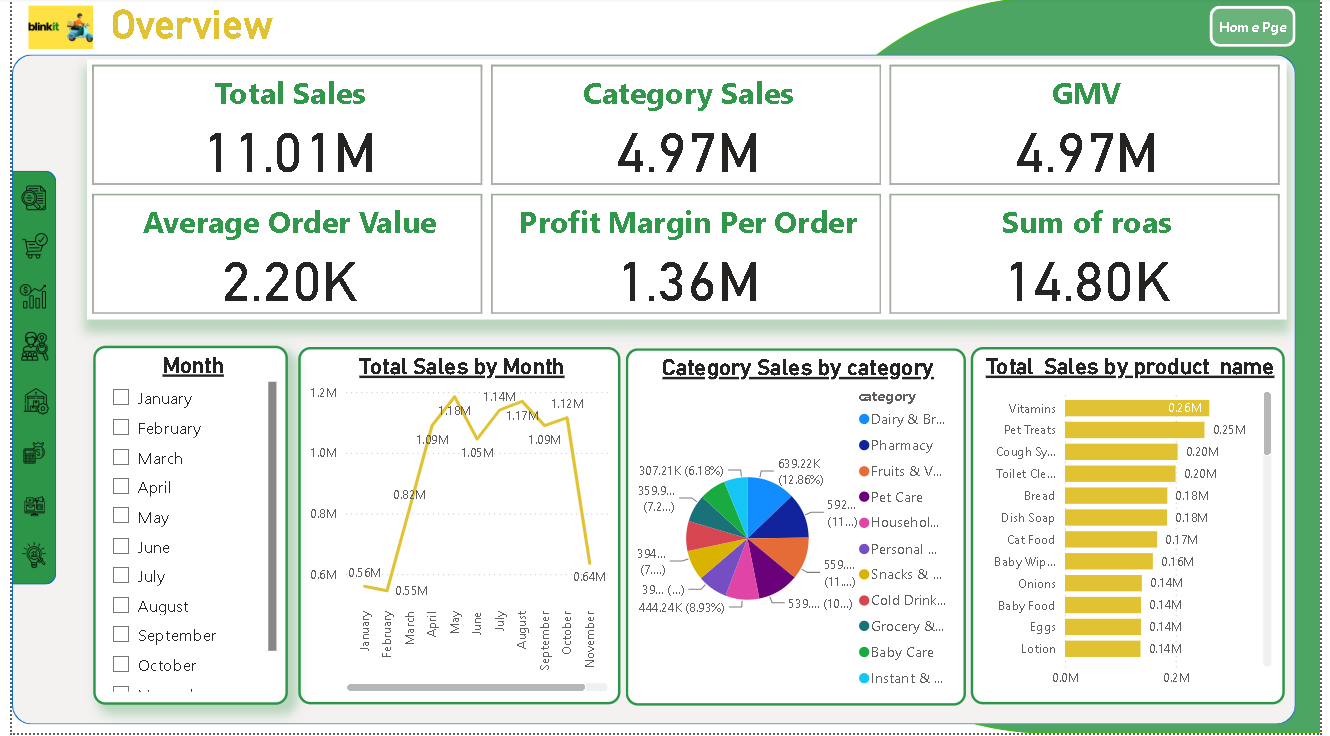

The page's visual inventory and layout, read from the dashboard file:
{"tool":"powerbi","page":{"name":"Overview","canvas":[1280,720],"ordinal":1},"visuals":[{"type":"shape","box":[740.7,0,539.3,720.2],"z":0},{"type":"shape","box":[0,56.3,1255.8,655.4],"z":1000},{"type":"cardVisual","fields":{"Data":["blinkit_customer_feedback.Total Sales","blinkit_customer_feedback.Category Sales","blinkit_customer_feedback.GMV","blinkit_customer_feedback.Average Order Value","blinkit_customer_feedback.Profit Margin Per Order","Sum(blinkit_marketing_performance.roas)"]},"box":[73.4,61.1,1173.9,254.3],"z":2000},{"type":"lineChart","fields":{"Y":["blinkit_customer_feedback.Total Sales"],"Category":["blinkit_customer_feedback.feedback_date.Variation.Date Hierarchy.Month"]},"box":[280,342.4,315.5,349.7],"z":3000},{"type":"slicer","title":"Month","fields":{"Values":["blinkit_customer_feedback.feedback_date.Variation.Date Hierarchy.Month"]},"box":[79.5,341.2,190.8,351],"z":4000},{"type":"pieChart","fields":{"Category":["blinkit_products.category"],"Y":["blinkit_customer_feedback.Category Sales"]},"box":[600.4,343.6,332.6,349.7],"z":5000},{"type":"barChart","fields":{"Category":["blinkit_products.product_name"],"Y":["blinkit_customer_feedback.Total_Sales"]},"box":[937.9,342.4,306.9,349.7],"z":6000},{"type":"image","box":[7.3,3.7,80.7,52.6],"z":7000},{"type":"shape","box":[0,170,43.2,404.8],"z":7000,"group":"g1"},{"type":"textbox","title":"Overview","box":[91.4,3.8,179.1,52.1],"z":8000},{"type":"group","id":"g1","title":"Group 1","box":[0,170,46.5,404.8],"z":9000},{"type":"image","box":[0.8,179.2,40,34],"z":9000,"group":"g1"},{"type":"shape","box":[1171.5,8.6,84.4,40.4],"z":10000},{"type":"image","box":[0.8,226.5,42.1,34.8],"z":10000,"group":"g1"},{"type":"image","box":[0.8,274.6,38.9,35.7],"z":11000,"group":"g1"},{"type":"image","box":[0.8,322.7,42.1,38.2],"z":12000,"group":"g1"},{"type":"image","box":[0.8,377.4,45.4,35.7],"z":13000,"group":"g1"},{"type":"image","box":[0.8,430.5,41.1,31.5],"z":14000,"group":"g1"},{"type":"image","box":[0.8,483.6,42.1,30.7],"z":15000,"group":"g1"},{"type":"image","box":[1.9,528.4,38.9,35.7],"z":16000,"group":"g1"}]}

Visuals, with their boxes in screenshot pixels (x1, y1, x2, y2), scaled from the page's 1280x720 canvas onto the 1330x736 screenshot:
shape: Rect(770, 0, 1329, 735)
shape: Rect(0, 58, 1305, 728)
cardVisual - blinkit_customer_feedback.Total Sales x blinkit_customer_feedback.Category Sales: Rect(76, 62, 1296, 322)
lineChart - blinkit_customer_feedback.Total Sales x blinkit_customer_feedback.feedback_date.Variation.Date Hierarchy.Month: Rect(291, 350, 619, 707)
"Month" slicer: Rect(83, 349, 281, 708)
pieChart - blinkit_products.category x blinkit_customer_feedback.Category Sales: Rect(624, 351, 969, 709)
barChart - blinkit_products.product_name x blinkit_customer_feedback.Total_Sales: Rect(975, 350, 1293, 707)
image: Rect(8, 4, 91, 58)
shape: Rect(0, 174, 45, 588)
"Overview" textbox: Rect(95, 4, 281, 57)
"Group 1" group: Rect(0, 174, 48, 588)
image: Rect(1, 183, 42, 218)
shape: Rect(1217, 9, 1305, 50)
image: Rect(1, 232, 45, 267)
image: Rect(1, 281, 41, 317)
image: Rect(1, 330, 45, 369)
image: Rect(1, 386, 48, 422)
image: Rect(1, 440, 44, 472)
image: Rect(1, 494, 45, 526)
image: Rect(2, 540, 42, 577)
